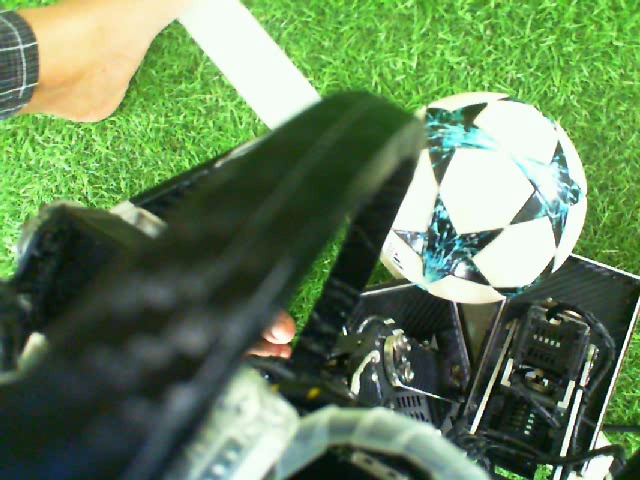ball: (380, 90, 590, 306)
